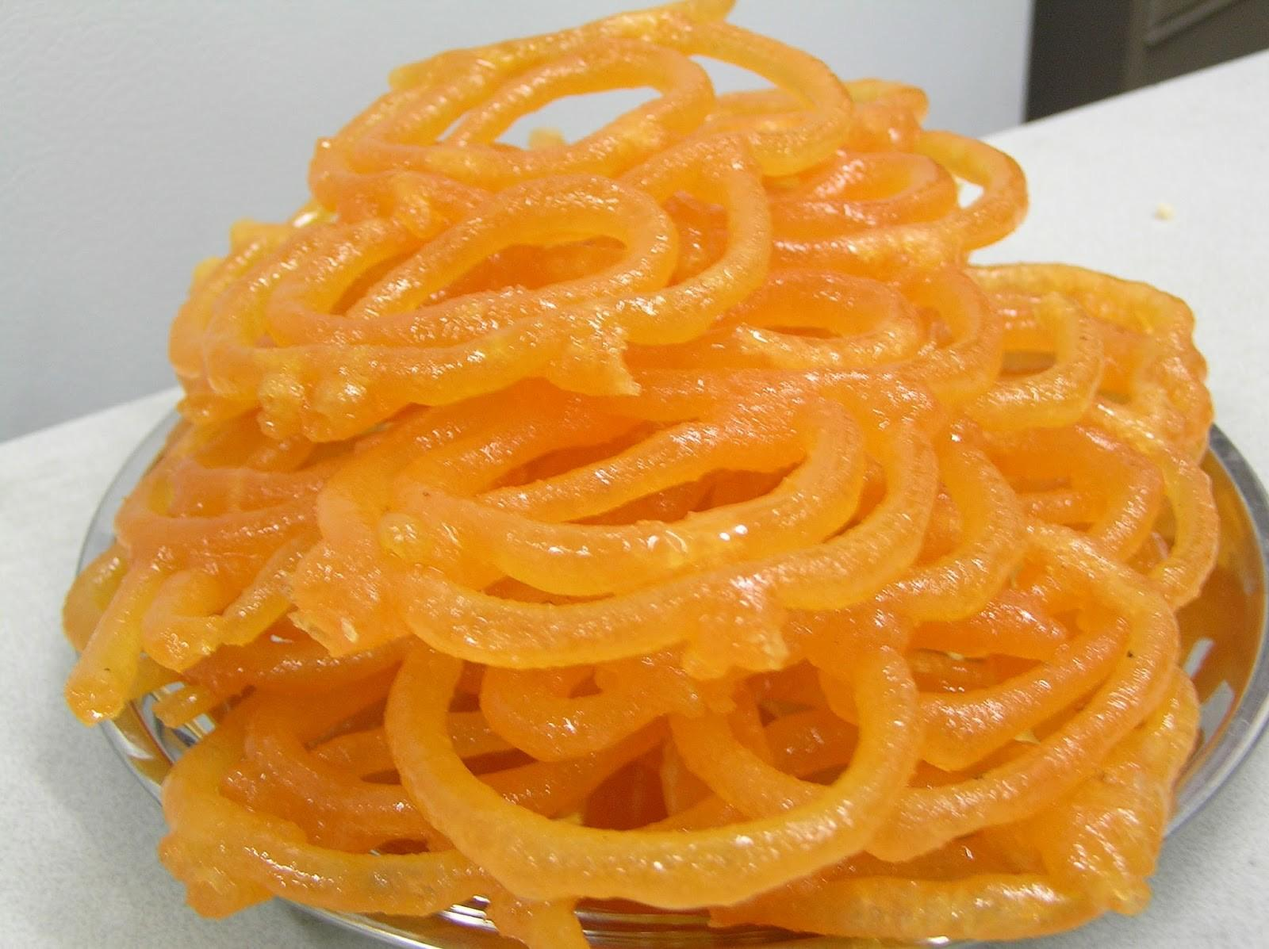Jalebi: (66, 2, 1226, 949)
